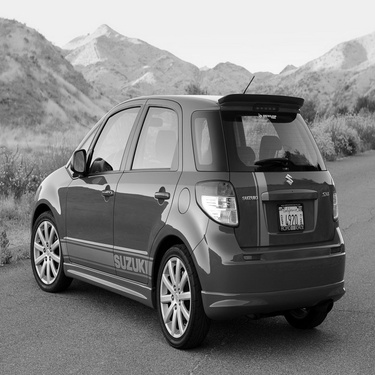car: (23, 82, 353, 352)
